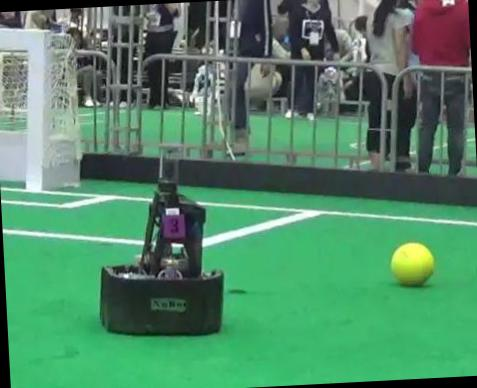ball: (389, 242, 433, 285)
goal: (26, 30, 44, 189)
robot: (99, 146, 222, 334)
